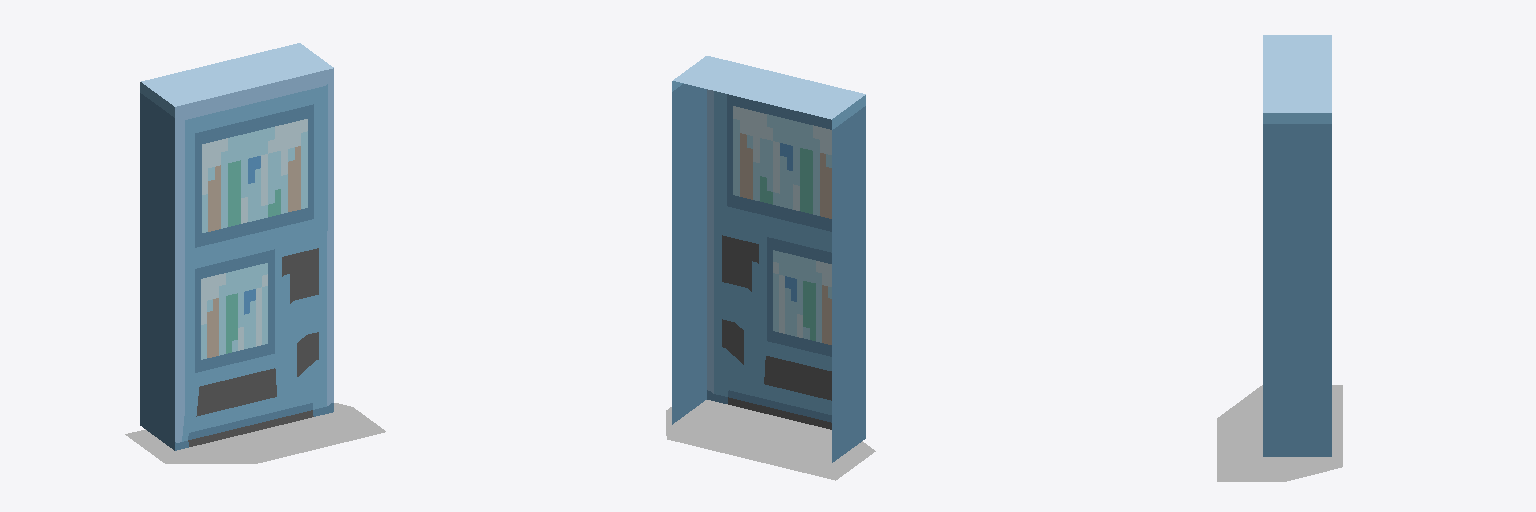
3 views of the same model, side by side, from view 1: azimuth 30°, elevation 25°; view 2: azimuth 150°, elevation 25°; view 3: azimuth 270°, elevation 25° (orthographic).
Parts seen in each view (by area): view 1: polygon0, polygon1; view 2: polygon0, polygon1; view 3: polygon0, polygon1.
Boxes of the visible parts, <box> form: polygon0: <box>140,43,333,450</box>; polygon1: <box>125,403,385,463</box>; polygon0: <box>672,56,865,462</box>; polygon1: <box>666,400,875,480</box>; polygon0: <box>1263,35,1331,456</box>; polygon1: <box>1217,385,1342,481</box>.
Size of the model in its own units: 2.5 by 4.25 by 1.38.
Materials: 2 (1 with a texture image).